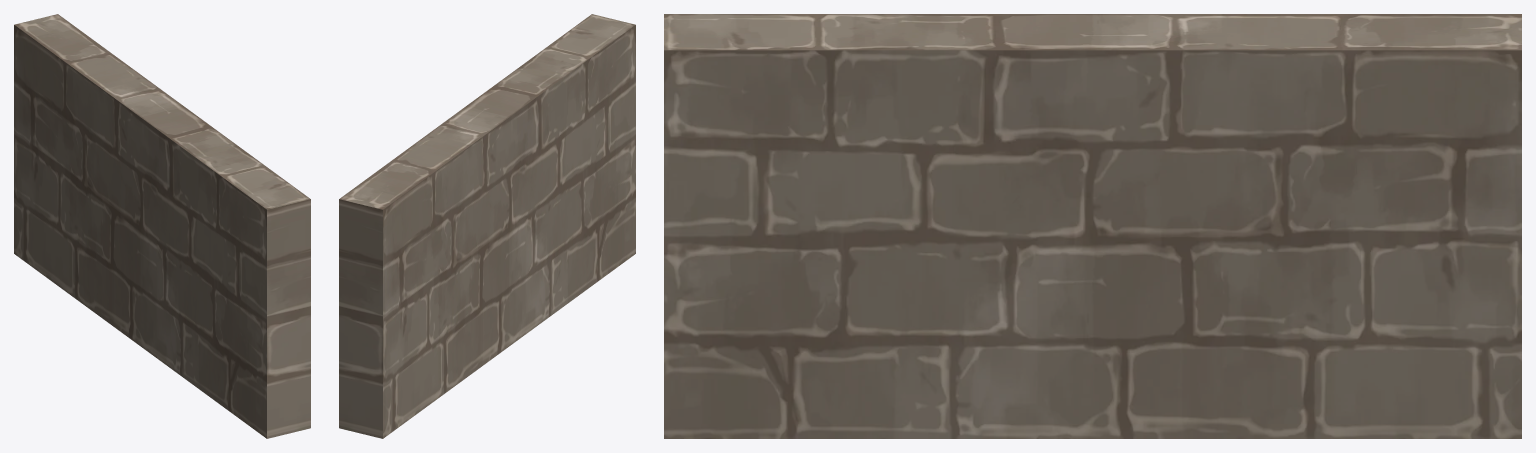
Rendered from stairs-exterior-singleside.glb.
3 renders of one model, left to right at view 1: azimuth 30°, elevation 25°; view 2: azimuth 150°, elevation 25°; view 3: azimuth 270°, elevation 25°, orthographic. The views are drawn at different scales.
Parts seen in each view (by area): view 1: Stairs_Exterior_SingleSide; view 2: Stairs_Exterior_SingleSide; view 3: Stairs_Exterior_SingleSide.
Boxes of the visible parts, <box> form: Stairs_Exterior_SingleSide: <box>14,14,310,438</box>; Stairs_Exterior_SingleSide: <box>339,14,635,438</box>; Stairs_Exterior_SingleSide: <box>664,14,1521,438</box>.
Size of the model in its own units: 0.2 by 1 by 2.
1 material, 1 textured.
